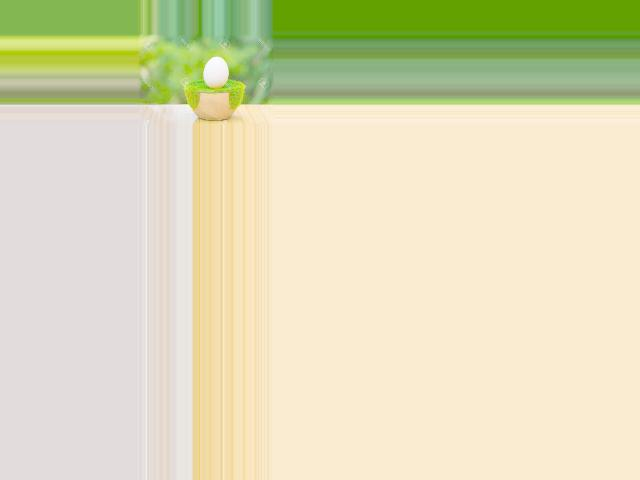egg: (202, 57, 227, 89)
